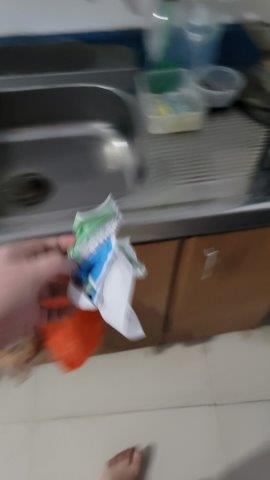kertas: (70, 190, 146, 342)
